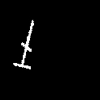double_crochet: (13, 20, 33, 68)
